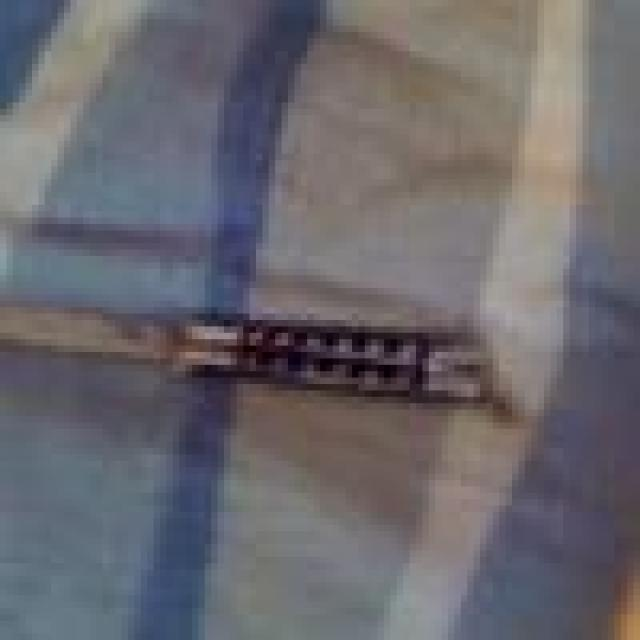knife: (4, 296, 508, 404)
